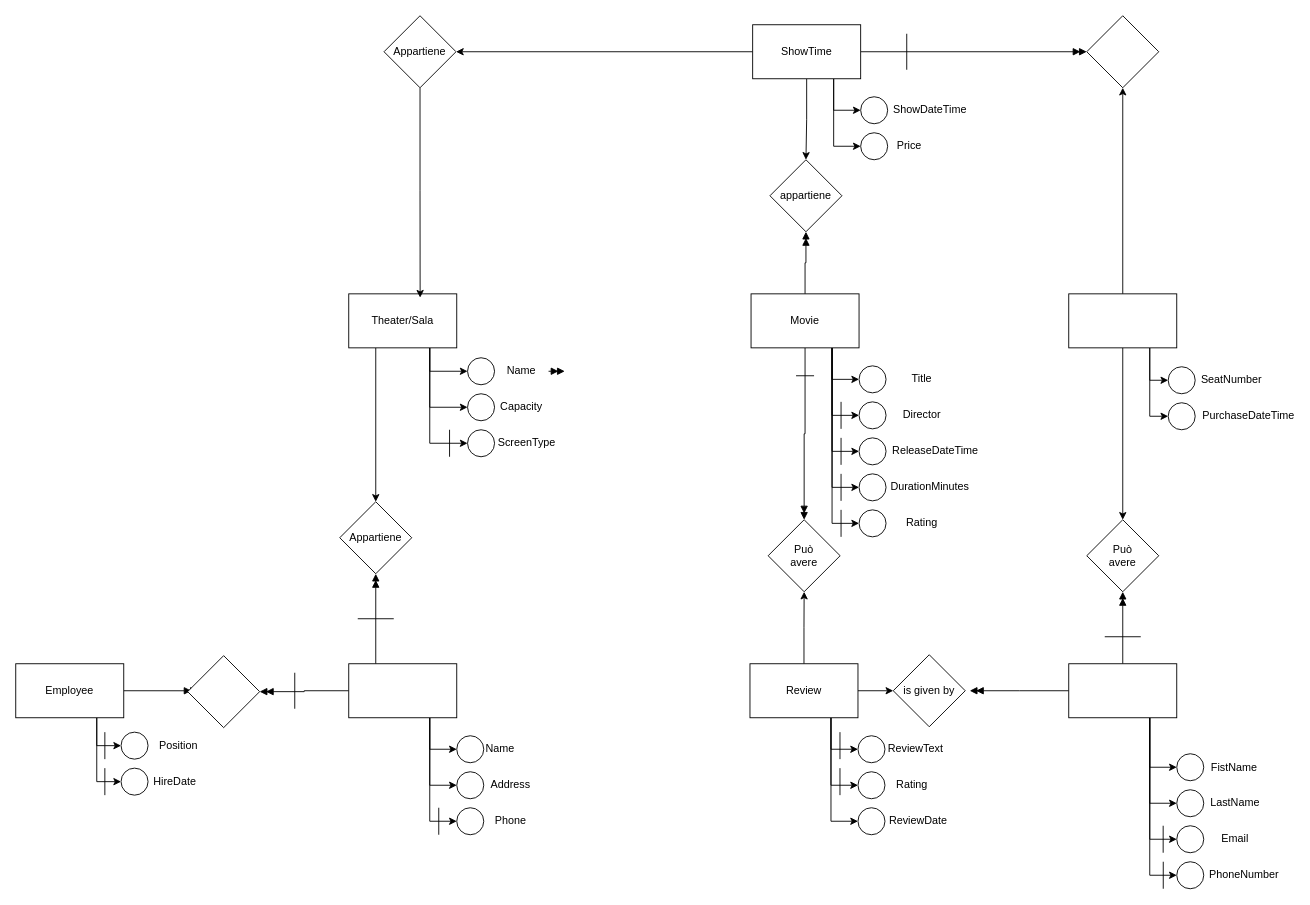
Some shapes in this 1310 by 905 pixel diagram are drawn without their labels. Here are the shapes that lost their labels. From the top down, the centre of each, then its label:
At (1122,51): "details in".
At (1122,320): "Ticket".
At (223,691): "Lavora per".
At (402,690): "Cinema".
At (1122,690): "Costumer".
